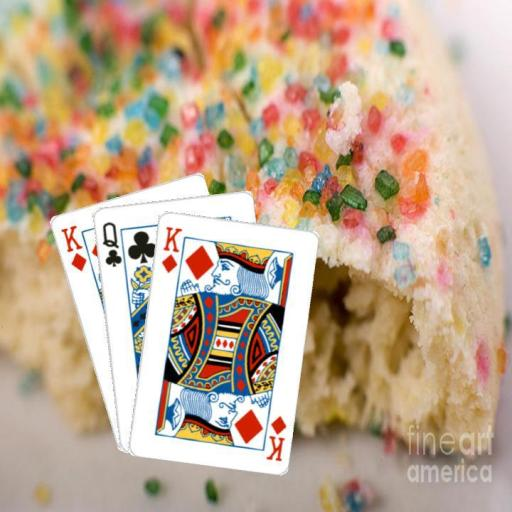KD: (57, 222, 88, 273), (262, 412, 288, 463), (158, 223, 183, 275)
QC: (99, 218, 123, 268)
